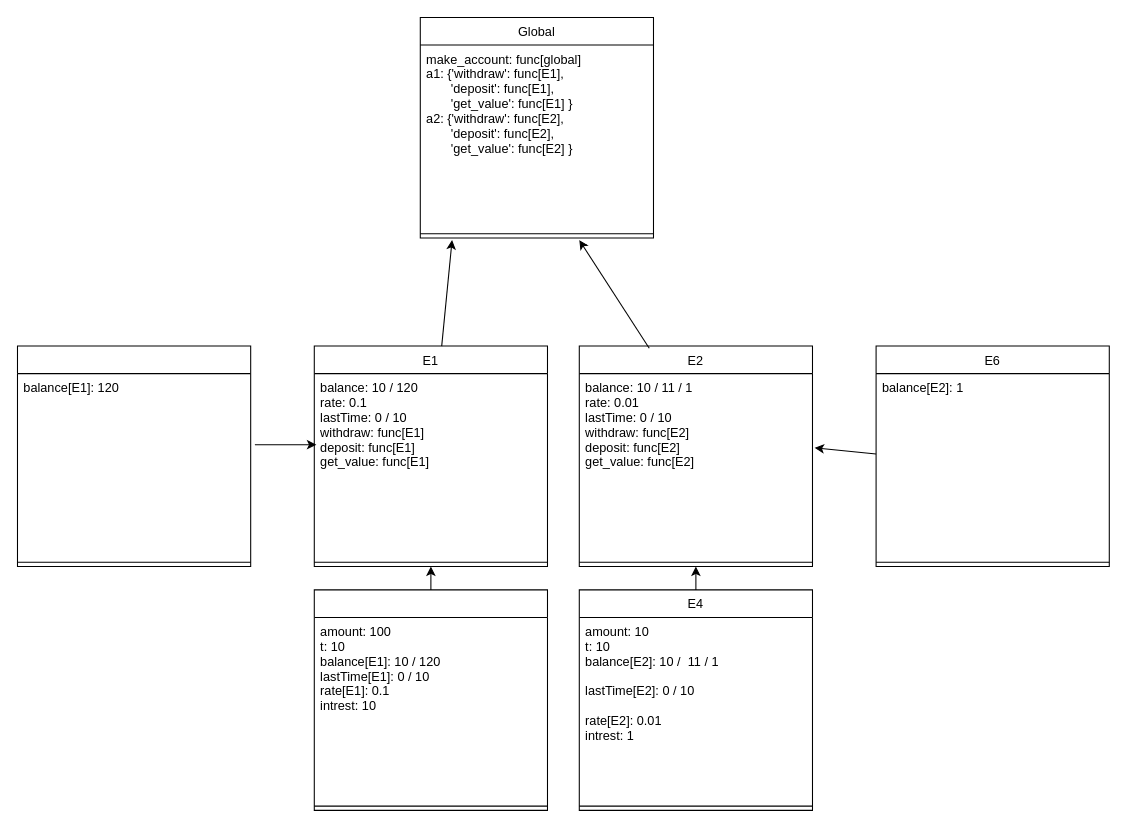
Some shapes in this 1127 by 828 pixel diagram are drawn without their labels. The shapes that lost their labels are listed below. From the top down, each one's box as (x1, y1, x2, y2) in pixels, then its label:
(16, 345, 251, 567): E5
(313, 589, 547, 810): E3
